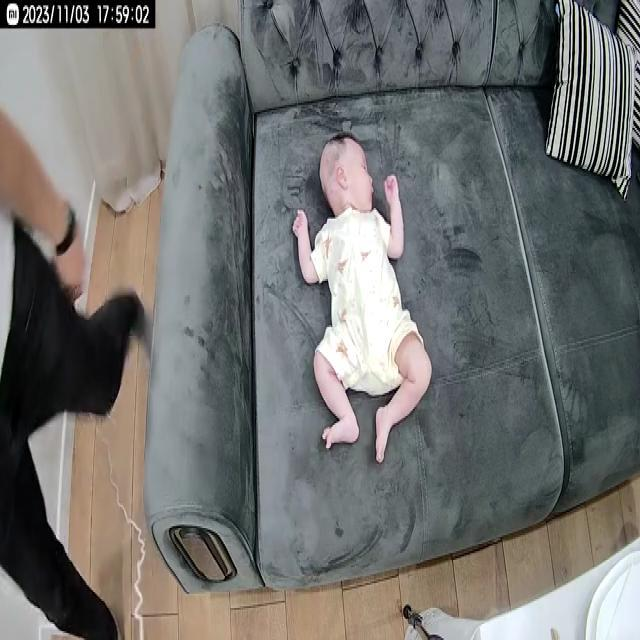baby: (290, 132, 436, 467)
